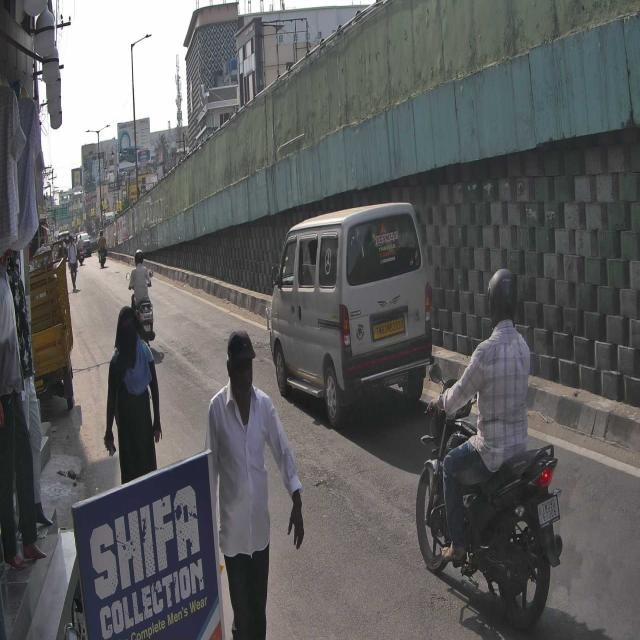single_rider: (414, 268, 564, 633)
